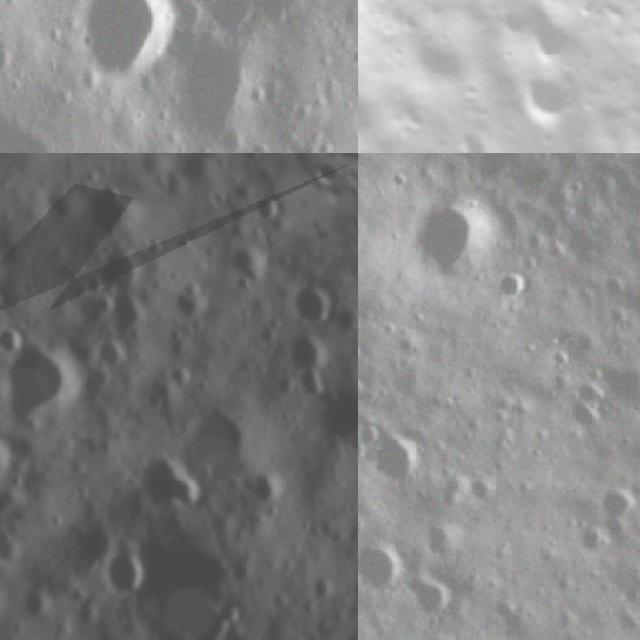crater: (56, 0, 197, 101), (161, 24, 270, 153), (166, 388, 279, 498), (408, 194, 517, 288), (119, 434, 214, 532), (0, 331, 84, 431), (269, 322, 344, 404), (92, 530, 161, 605), (358, 424, 432, 489), (74, 174, 144, 242), (560, 367, 619, 441), (305, 372, 358, 453), (404, 569, 474, 630), (240, 457, 298, 513), (102, 285, 159, 341), (515, 69, 570, 126), (285, 280, 339, 333), (14, 576, 70, 626), (224, 239, 278, 290), (89, 246, 143, 296), (358, 540, 409, 592), (93, 153, 222, 171), (208, 588, 257, 634), (592, 481, 640, 524), (422, 520, 473, 560), (169, 280, 212, 324), (246, 186, 289, 229), (135, 223, 177, 266), (90, 334, 129, 376), (304, 568, 344, 608), (498, 268, 534, 311), (438, 133, 501, 153), (227, 176, 260, 208), (168, 360, 196, 392), (4, 464, 32, 494), (340, 572, 358, 613), (43, 506, 67, 532), (0, 284, 9, 317), (6, 153, 45, 158)
